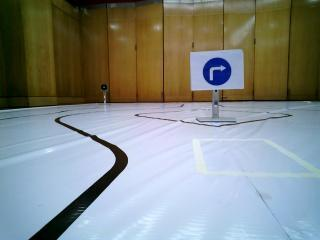right: (192, 51, 244, 91)
